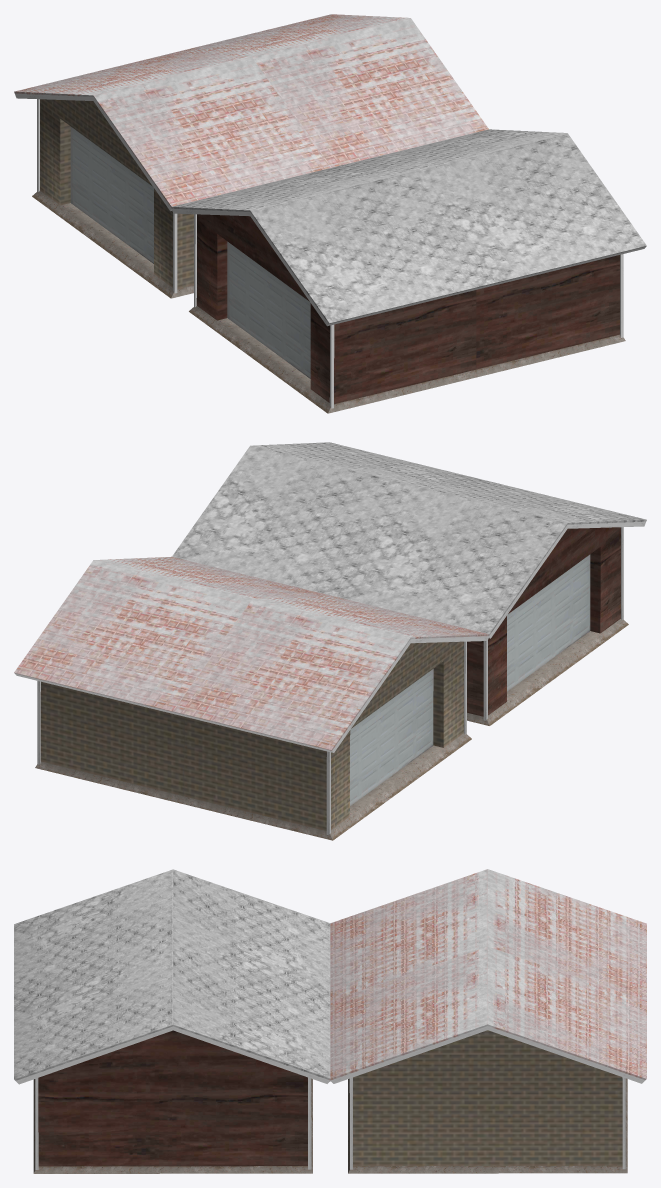
3 views of the same model, one above another, from view 1: azimuth 30°, elevation 25°; view 2: azimuth 150°, elevation 25°; view 3: azimuth 270°, elevation 25° (orthographic).
Parts seen in each view (by area): view 1: Garage_B4__2_, Garage_B7_D5__6_; view 2: Garage_B7_D5__6_, Garage_B4__2_; view 3: Garage_B7_D5__6_, Garage_B4__2_.
Boxes of the visible parts, x1,y1,x2,y2 form: Garage_B4__2_: (171, 129, 646, 413); Garage_B7_D5__6_: (14, 14, 488, 298); Garage_B7_D5__6_: (14, 556, 489, 840); Garage_B4__2_: (172, 442, 646, 725); Garage_B7_D5__6_: (329, 869, 646, 1173); Garage_B4__2_: (14, 869, 330, 1173).
Bounding box in the file's own units: 1262 × 588 × 2173.
4 materials, 4 textured.
